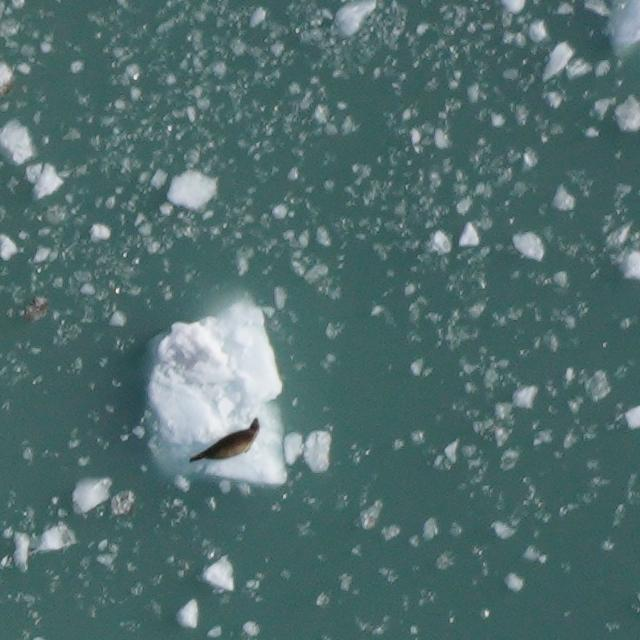seal: (181, 416, 267, 469)
